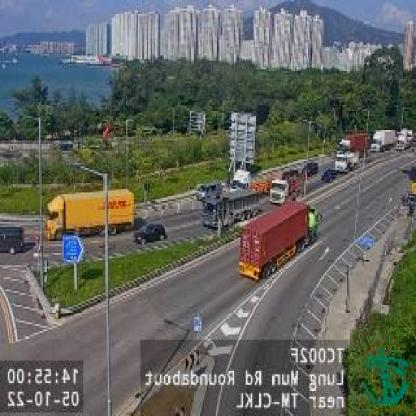Car: (135, 222, 168, 244), (1, 226, 25, 252), (302, 161, 318, 175), (322, 170, 340, 182)
Truck: (240, 201, 323, 279), (47, 187, 134, 241), (205, 189, 260, 227), (230, 168, 274, 194), (272, 173, 306, 201), (341, 132, 373, 156), (338, 150, 360, 172), (375, 130, 396, 149)
